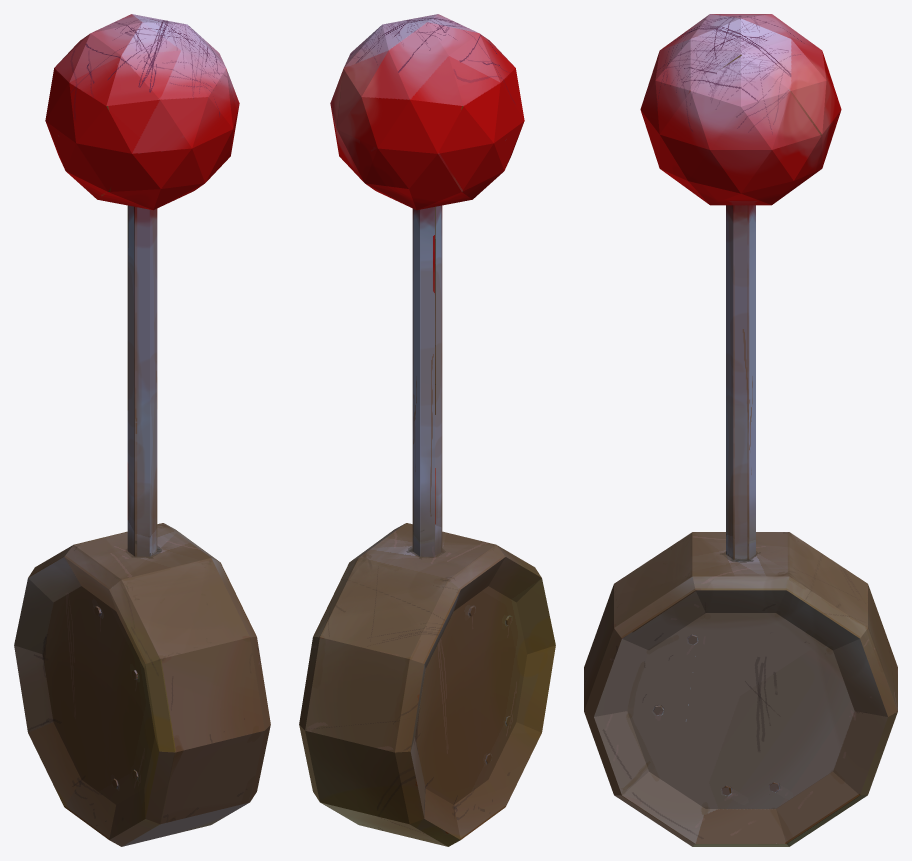
File: lever.glb
The picture shows the model from 3 angles, left to right: view 1: azimuth 30°, elevation 25°; view 2: azimuth 150°, elevation 25°; view 3: azimuth 270°, elevation 25°; orthographic projection.
Parts seen in each view (by area): view 1: lever; view 2: lever; view 3: lever.
Boxes of the visible parts, bbox=[...] form: lever: bbox=[14, 14, 270, 846]; lever: bbox=[299, 14, 555, 846]; lever: bbox=[584, 14, 897, 846].
Bounding box in the file's own units: 1.11 × 5.17 × 1.82.
Materials: 1 (1 with a texture image).
